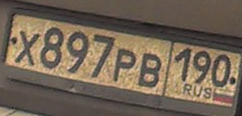character: (63, 28, 90, 76), (91, 30, 115, 82), (14, 29, 42, 68), (113, 44, 139, 86), (137, 49, 163, 90), (41, 27, 64, 73), (174, 43, 193, 87), (193, 46, 211, 86), (212, 52, 231, 89)
